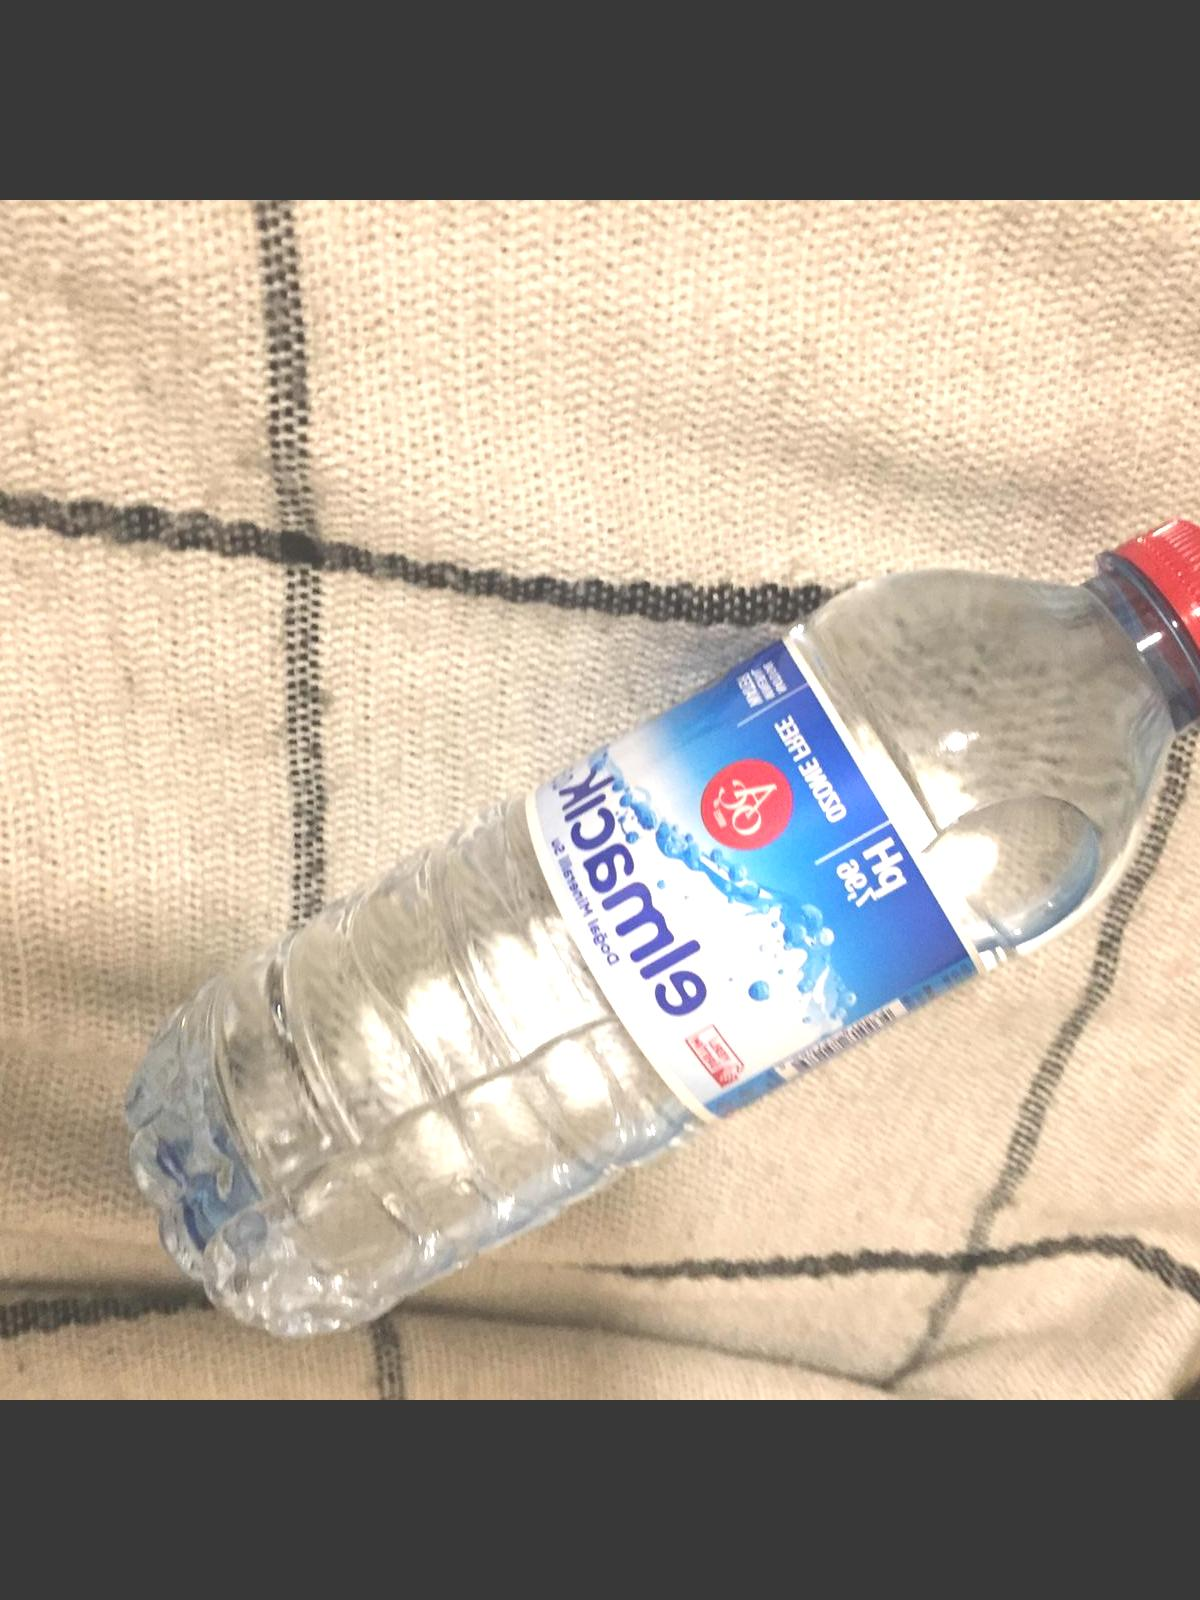bottle: (116, 510, 1200, 1339)
